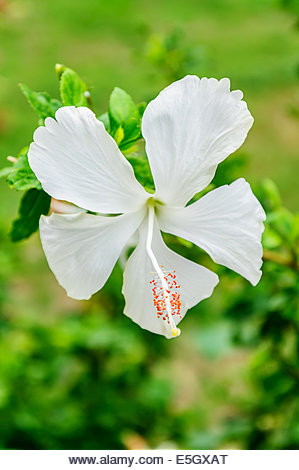Hibiscus: (29, 72, 273, 340)
